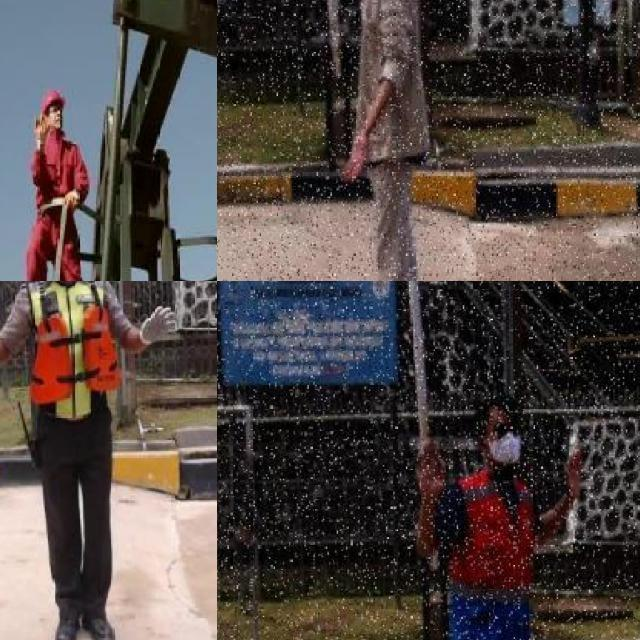apron: (140, 304, 176, 352), (32, 114, 48, 146), (64, 191, 77, 212)
